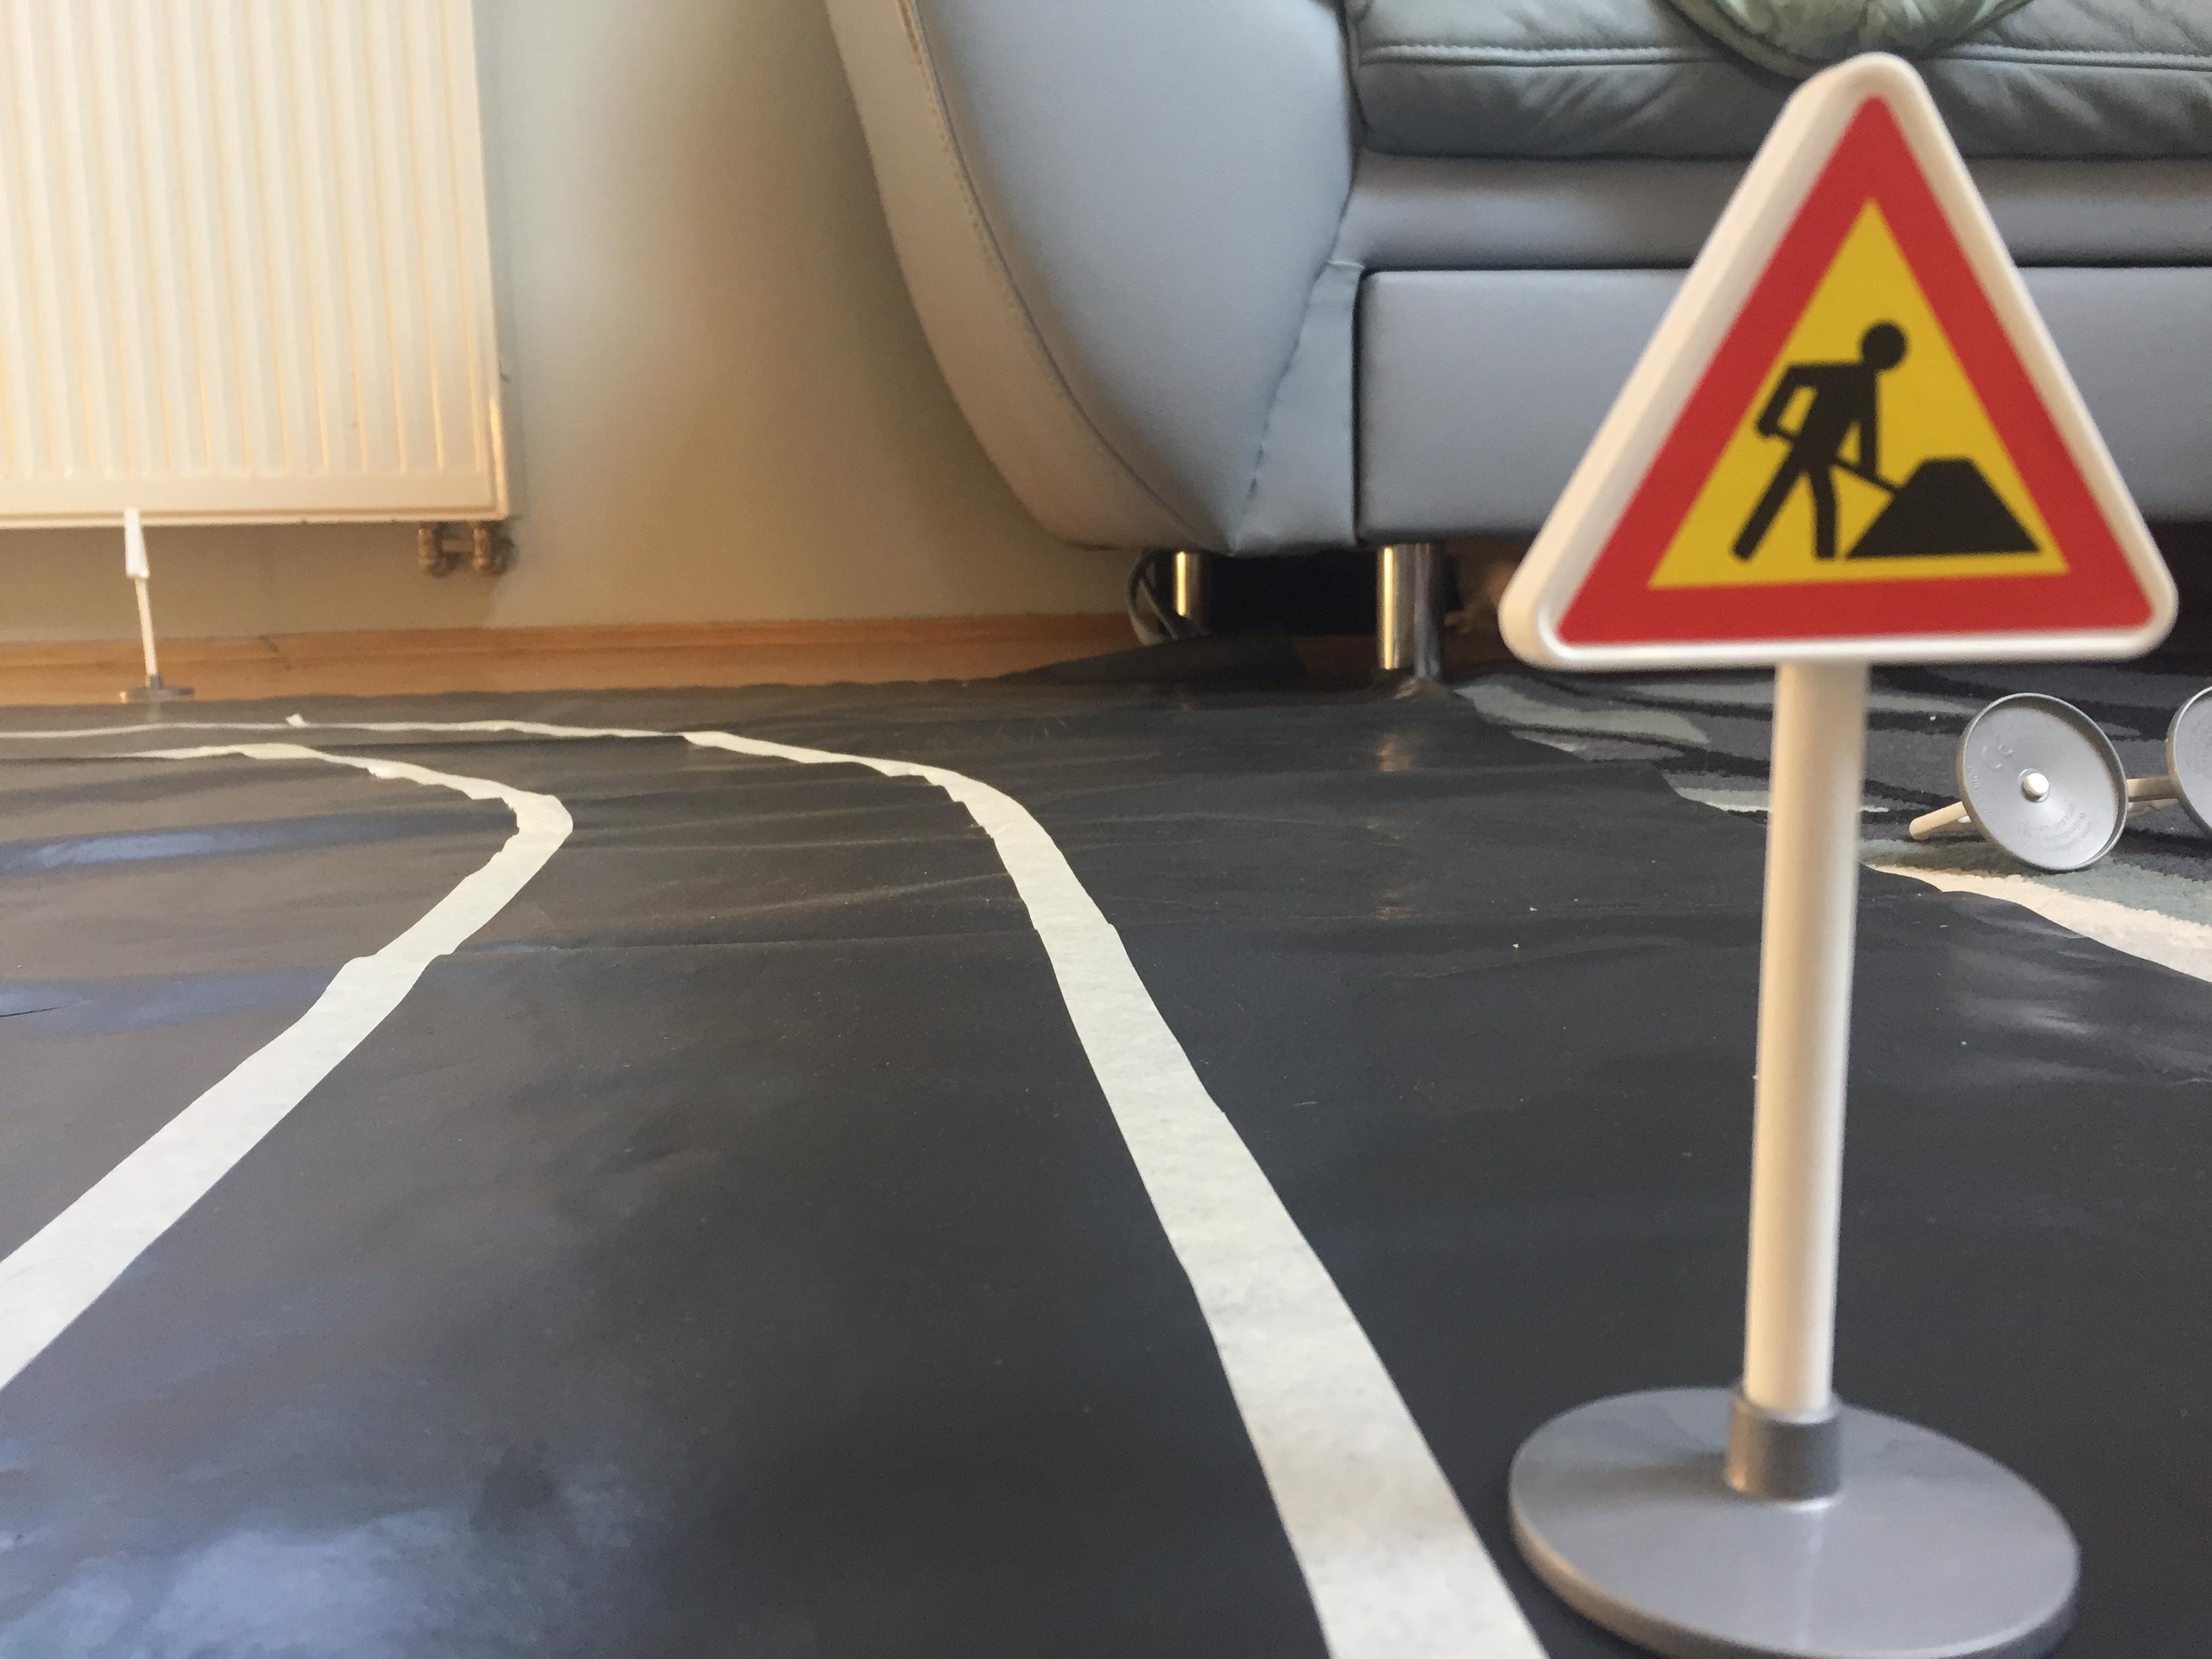work: (1480, 37, 2182, 687)
